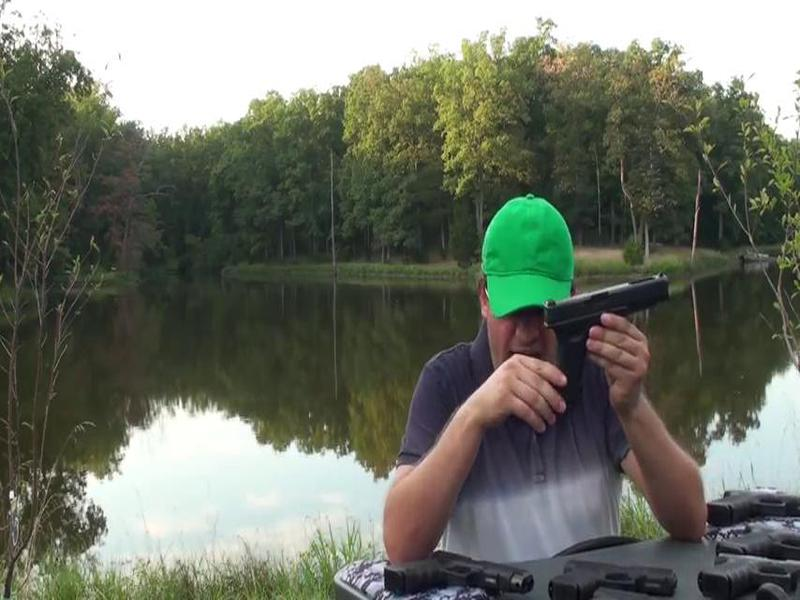Pistola: (527, 263, 674, 406), (372, 535, 538, 600), (548, 547, 673, 600)
